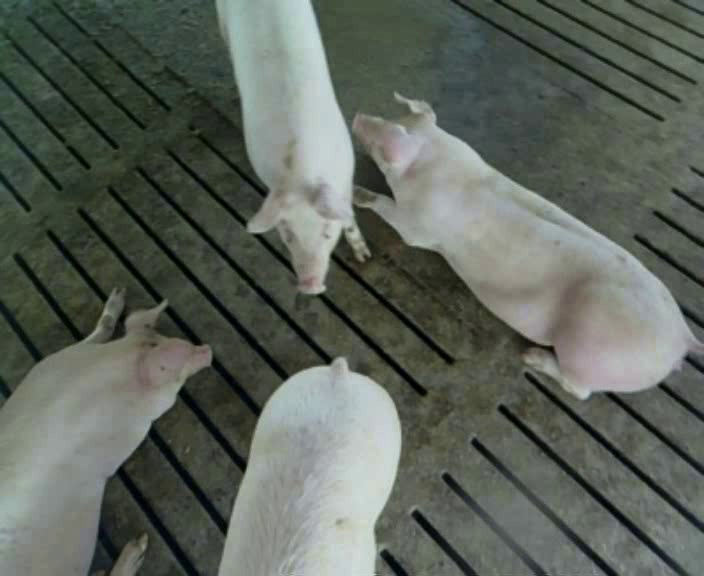pig: (353, 94, 703, 398), (219, 2, 369, 292), (219, 358, 400, 574)
